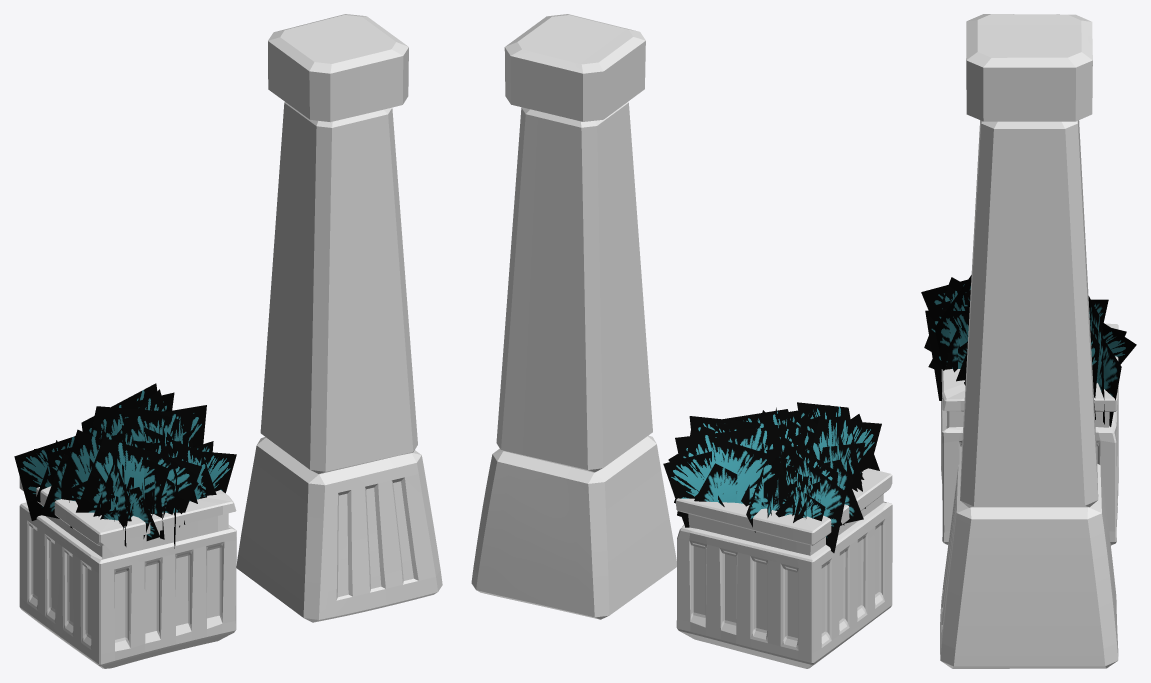
The model's file is Props.fbx.
3 views of the same model, side by side, from view 1: azimuth 30°, elevation 25°; view 2: azimuth 150°, elevation 25°; view 3: azimuth 270°, elevation 25° (orthographic). The views are drawn at different scales.
Visible parts, largest first — view 1: Cube.028, Cube.027, Plane.057; view 2: Cube.028, Cube.027, Plane.057; view 3: Cube.028, Plane.057, Cube.027.
Part boxes in pixels (x1=…): Cube.028: x1=236, y1=14, x2=442, y2=622; Cube.027: x1=19, y1=477, x2=236, y2=668; Plane.057: x1=14, y1=383, x2=236, y2=548; Cube.028: x1=471, y1=14, x2=676, y2=619; Cube.027: x1=676, y1=468, x2=892, y2=668; Plane.057: x1=663, y1=402, x2=881, y2=552; Cube.028: x1=940, y1=14, x2=1118, y2=668; Plane.057: x1=921, y1=275, x2=1136, y2=426; Cube.027: x1=941, y1=323, x2=1118, y2=545.
Bounding box in the file's own units: 529 × 748 × 243.
